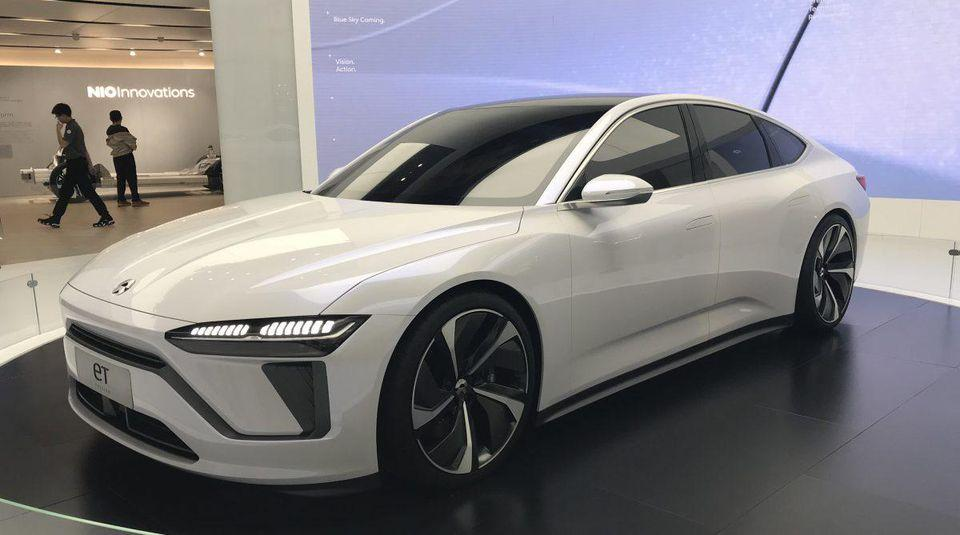car: (60, 90, 875, 494)
